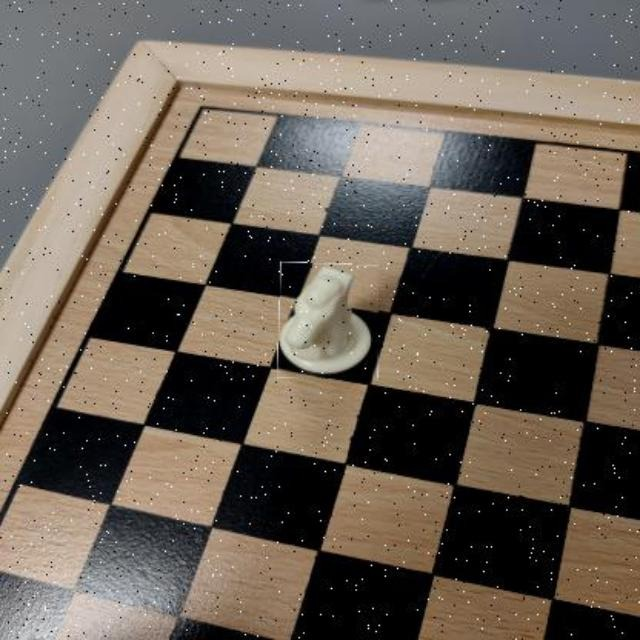white-knight: (277, 263, 378, 379)
